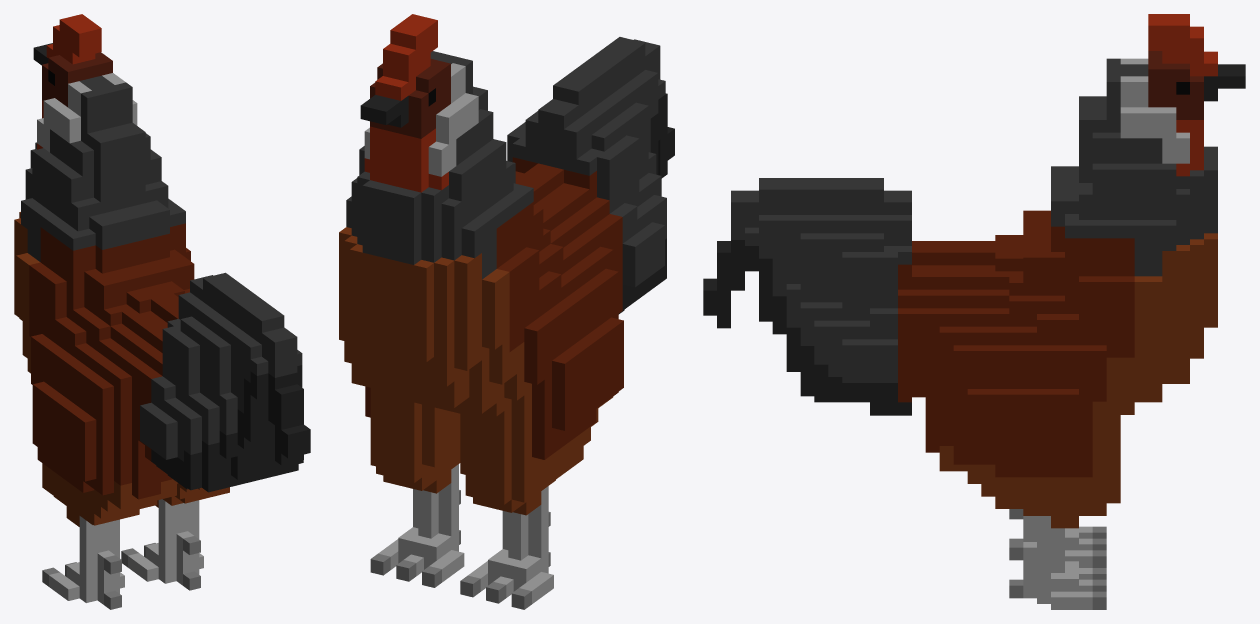
File: rooster.glb
The picture shows the model from 3 angles, left to right: view 1: azimuth 30°, elevation 25°; view 2: azimuth 150°, elevation 25°; view 3: azimuth 270°, elevation 25°; orthographic projection. The views are drawn at different scales.
Bounding box in the file's own units: 0.32 × 0.88 × 0.78.
